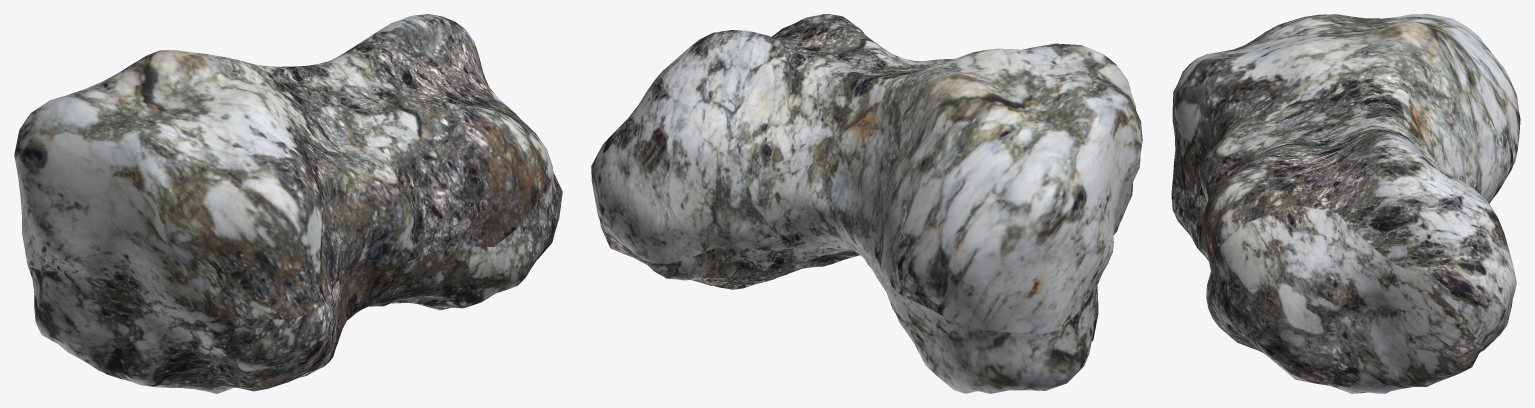
File: Asteroid01.FBX
The picture shows the model from 3 angles, left to right: view 1: azimuth 30°, elevation 25°; view 2: azimuth 150°, elevation 25°; view 3: azimuth 270°, elevation 25°; orthographic projection. The views are drawn at different scales.
Parts seen in each view (by area): view 1: mithra; view 2: mithra; view 3: mithra.
Boxes of the visible parts, x1,y1,x2,y2 form: mithra: (14, 14, 562, 393); mithra: (591, 14, 1142, 393); mithra: (1171, 14, 1520, 393).
Bounding box in the file's own units: 288 × 176 × 202.
Materials: 1 (1 with a texture image).
